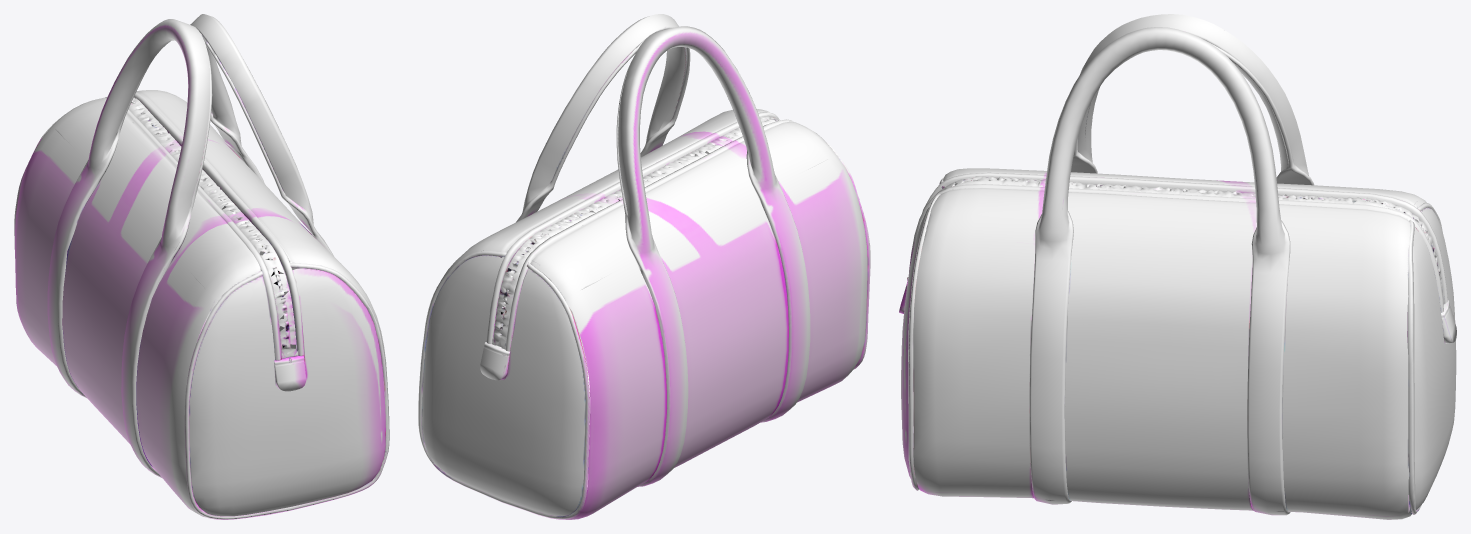
File: bag.glb
The picture shows the model from 3 angles, left to right: view 1: azimuth 30°, elevation 25°; view 2: azimuth 150°, elevation 25°; view 3: azimuth 270°, elevation 25°; orthographic projection. The views are drawn at different scales.
Parts seen in each view (by area): view 1: duffel bag 3d model; view 2: duffel bag 3d model; view 3: duffel bag 3d model.
Boxes of the visible parts, <box> form: duffel bag 3d model: <box>14,14,389,519</box>; duffel bag 3d model: <box>418,14,870,519</box>; duffel bag 3d model: <box>899,14,1456,519</box>.
Bounding box in the file's own units: 0.5728 × 0.9019 × 0.9995.
Materials: 1 (1 with a texture image).
